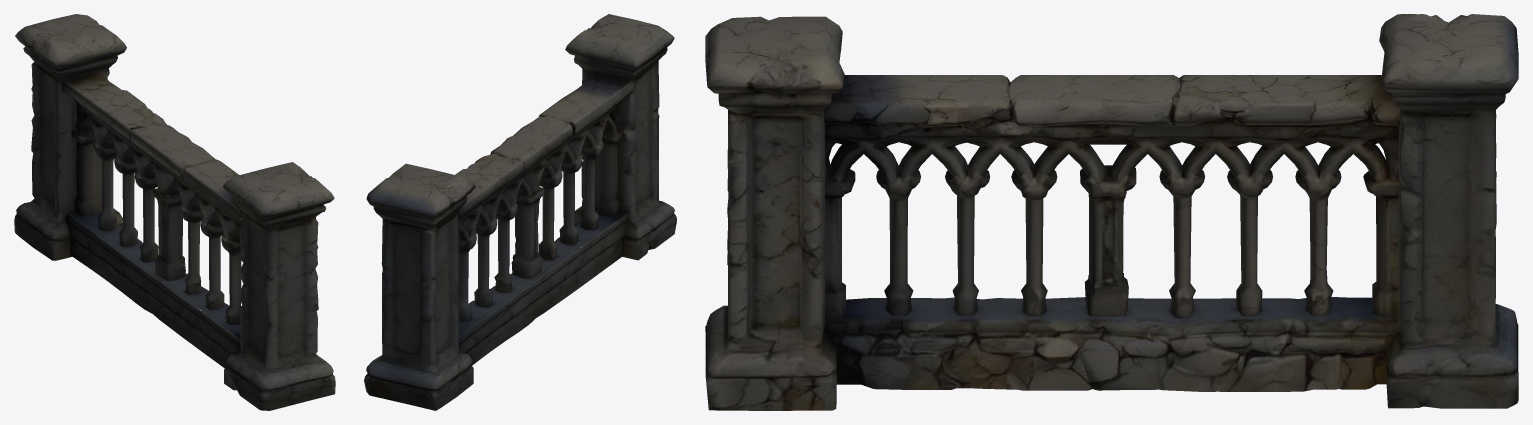
Rendered from balustrade.glb.
3 renders of one model, left to right at view 1: azimuth 30°, elevation 25°; view 2: azimuth 150°, elevation 25°; view 3: azimuth 270°, elevation 25°, orthographic. The views are drawn at different scales.
Parts seen in each view (by area): view 1: tripo_node_dbefa0d0-8142-4f8f-94c0-41e796f244d0; view 2: tripo_node_dbefa0d0-8142-4f8f-94c0-41e796f244d0; view 3: tripo_node_dbefa0d0-8142-4f8f-94c0-41e796f244d0.
Part boxes in pixels (x1,y1,x2,y2): tripo_node_dbefa0d0-8142-4f8f-94c0-41e796f244d0: (14, 14, 335, 410); tripo_node_dbefa0d0-8142-4f8f-94c0-41e796f244d0: (364, 14, 676, 410); tripo_node_dbefa0d0-8142-4f8f-94c0-41e796f244d0: (705, 14, 1518, 410).
Bounding box in the file's own units: 0.1792 × 0.4644 × 0.9995.
Materials: 1 (1 with a texture image).
